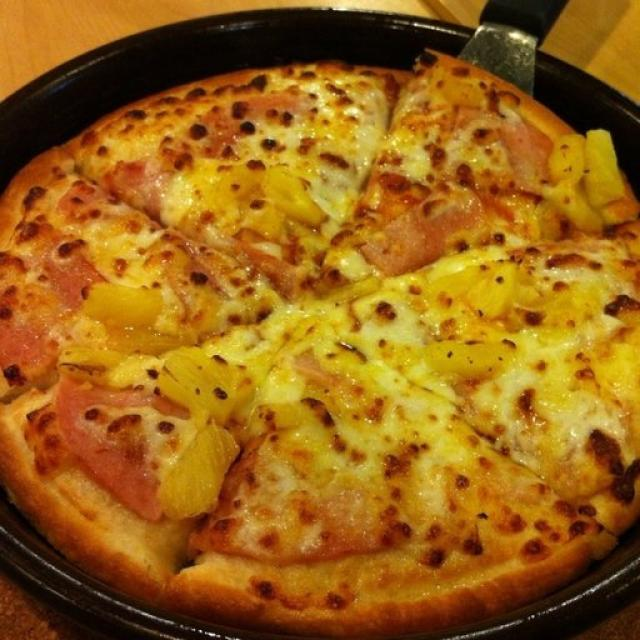Cheese: (514, 338, 579, 440), (585, 354, 640, 430), (393, 389, 460, 443), (283, 131, 367, 171), (238, 332, 291, 385), (98, 228, 146, 283), (364, 298, 425, 340)
Ham: (53, 371, 166, 519), (485, 112, 553, 182), (34, 222, 92, 290), (368, 215, 442, 268), (0, 317, 55, 378), (429, 183, 474, 249), (294, 343, 342, 390), (377, 181, 425, 213), (103, 161, 144, 197), (57, 286, 82, 308)
Pizza: (0, 50, 640, 634)
